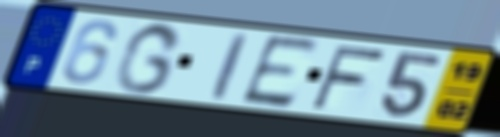5: (378, 48, 446, 120)
6: (60, 18, 118, 86)
E: (237, 32, 325, 111)
F: (308, 43, 391, 111)
G: (111, 21, 186, 96)
I: (209, 30, 251, 102)
